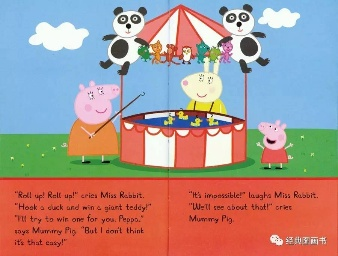Peppa: (256, 117, 294, 171)
